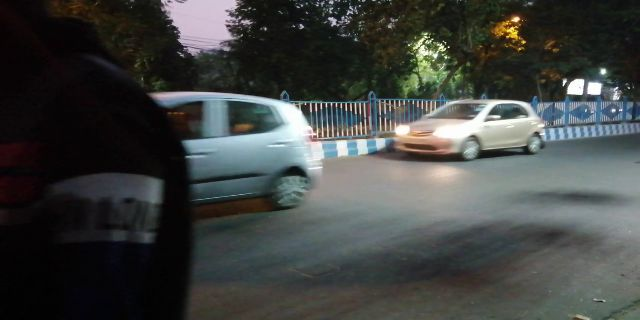Car: (179, 93, 331, 208), (400, 94, 548, 160)
